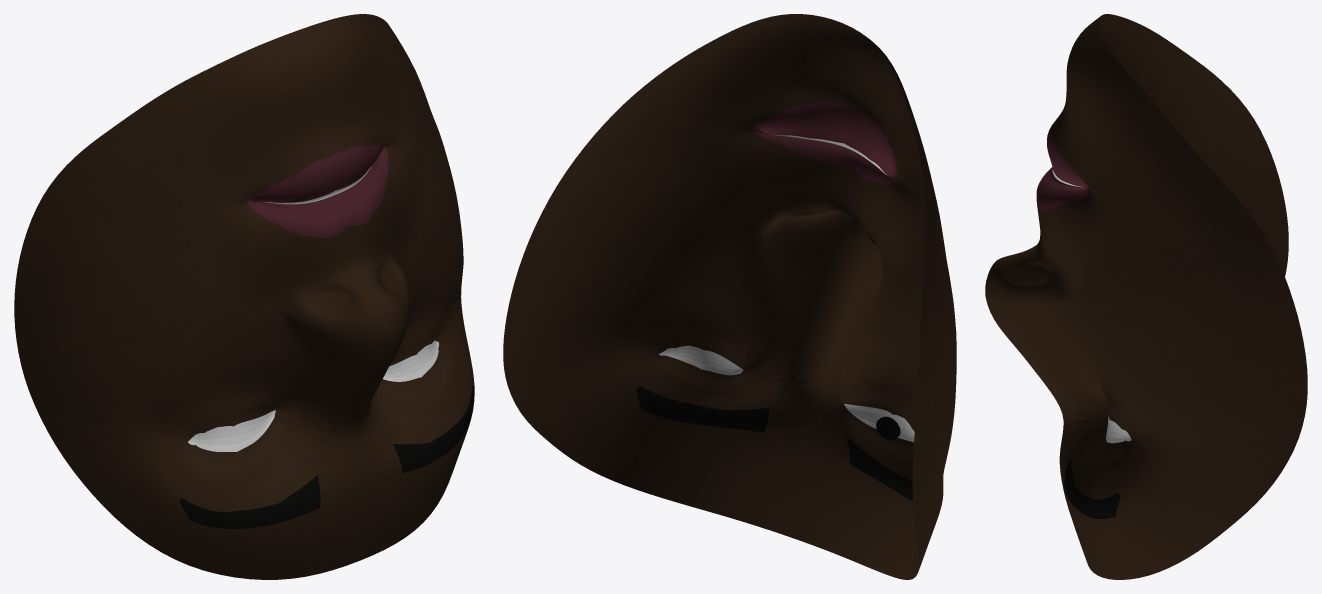
The model's file is sad.obj.
The picture shows the model from 3 angles, left to right: view 1: azimuth 30°, elevation 25°; view 2: azimuth 150°, elevation 25°; view 3: azimuth 270°, elevation 25°; orthographic projection. The views are drawn at different scales.
Parts seen in each view (by area): view 1: face_mesh_subdivided; view 2: face_mesh_subdivided; view 3: face_mesh_subdivided.
Part boxes in pixels (x1=…): face_mesh_subdivided: x1=14, y1=14, x2=474, y2=579; face_mesh_subdivided: x1=503, y1=14, x2=956, y2=579; face_mesh_subdivided: x1=985, y1=14, x2=1307, y2=579.
Size of the model in its own units: 0.6222 by 0.7885 by 0.45.
